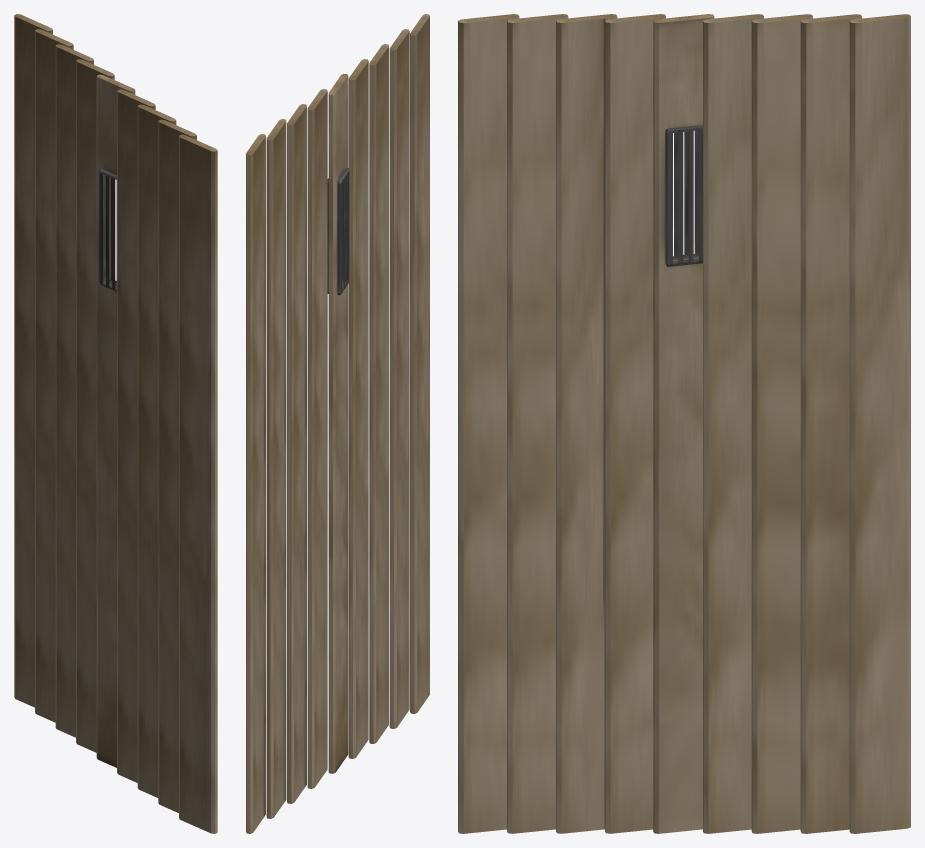
File: ElevatorDoorV1.fbx
3 renders of one model, left to right at view 1: azimuth 30°, elevation 25°; view 2: azimuth 150°, elevation 25°; view 3: azimuth 270°, elevation 25°, orthographic. The views are drawn at different scales.
Parts seen in each view (by area): view 1: Cube.002; view 2: Cube.002; view 3: Cube.002.
Part boxes in pixels (left/top/right/bottom): Cube.002: left=14, top=14, right=217, bottom=833; Cube.002: left=246, top=14, right=429, bottom=833; Cube.002: left=458, top=14, right=910, bottom=833.
Bounding box in the file's own units: 5.82 × 200 × 101.
1 material, 1 textured.
